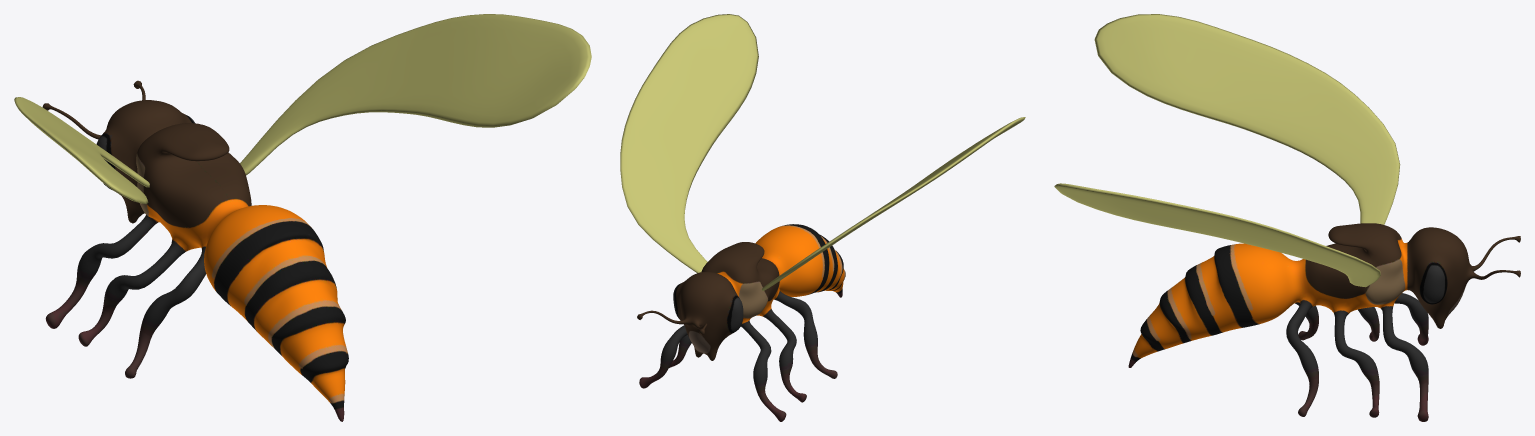
File: Abeja_2.obj
3 views of the same model, side by side, from view 1: azimuth 30°, elevation 25°; view 2: azimuth 150°, elevation 25°; view 3: azimuth 270°, elevation 25° (orthographic). The views are drawn at different scales.
Parts seen in each view (by area): view 1: Group45076, Group43208, Group45077; view 2: Group43208, Group45076, Group45077; view 3: Group45076, Group45077, Group43208.
Boxes of the visible parts, x1,y1,x2,y2 form: Group45076: [42, 80, 348, 421]; Group43208: [240, 14, 591, 175]; Group45077: [14, 97, 149, 203]; Group43208: [620, 14, 758, 273]; Group45076: [637, 224, 845, 421]; Group45077: [762, 117, 1025, 290]; Group45076: [1128, 223, 1520, 421]; Group45077: [1094, 14, 1400, 224]; Group43208: [1054, 183, 1380, 287].
Size of the model in its own units: 2.28 by 1.58 by 2.4.
